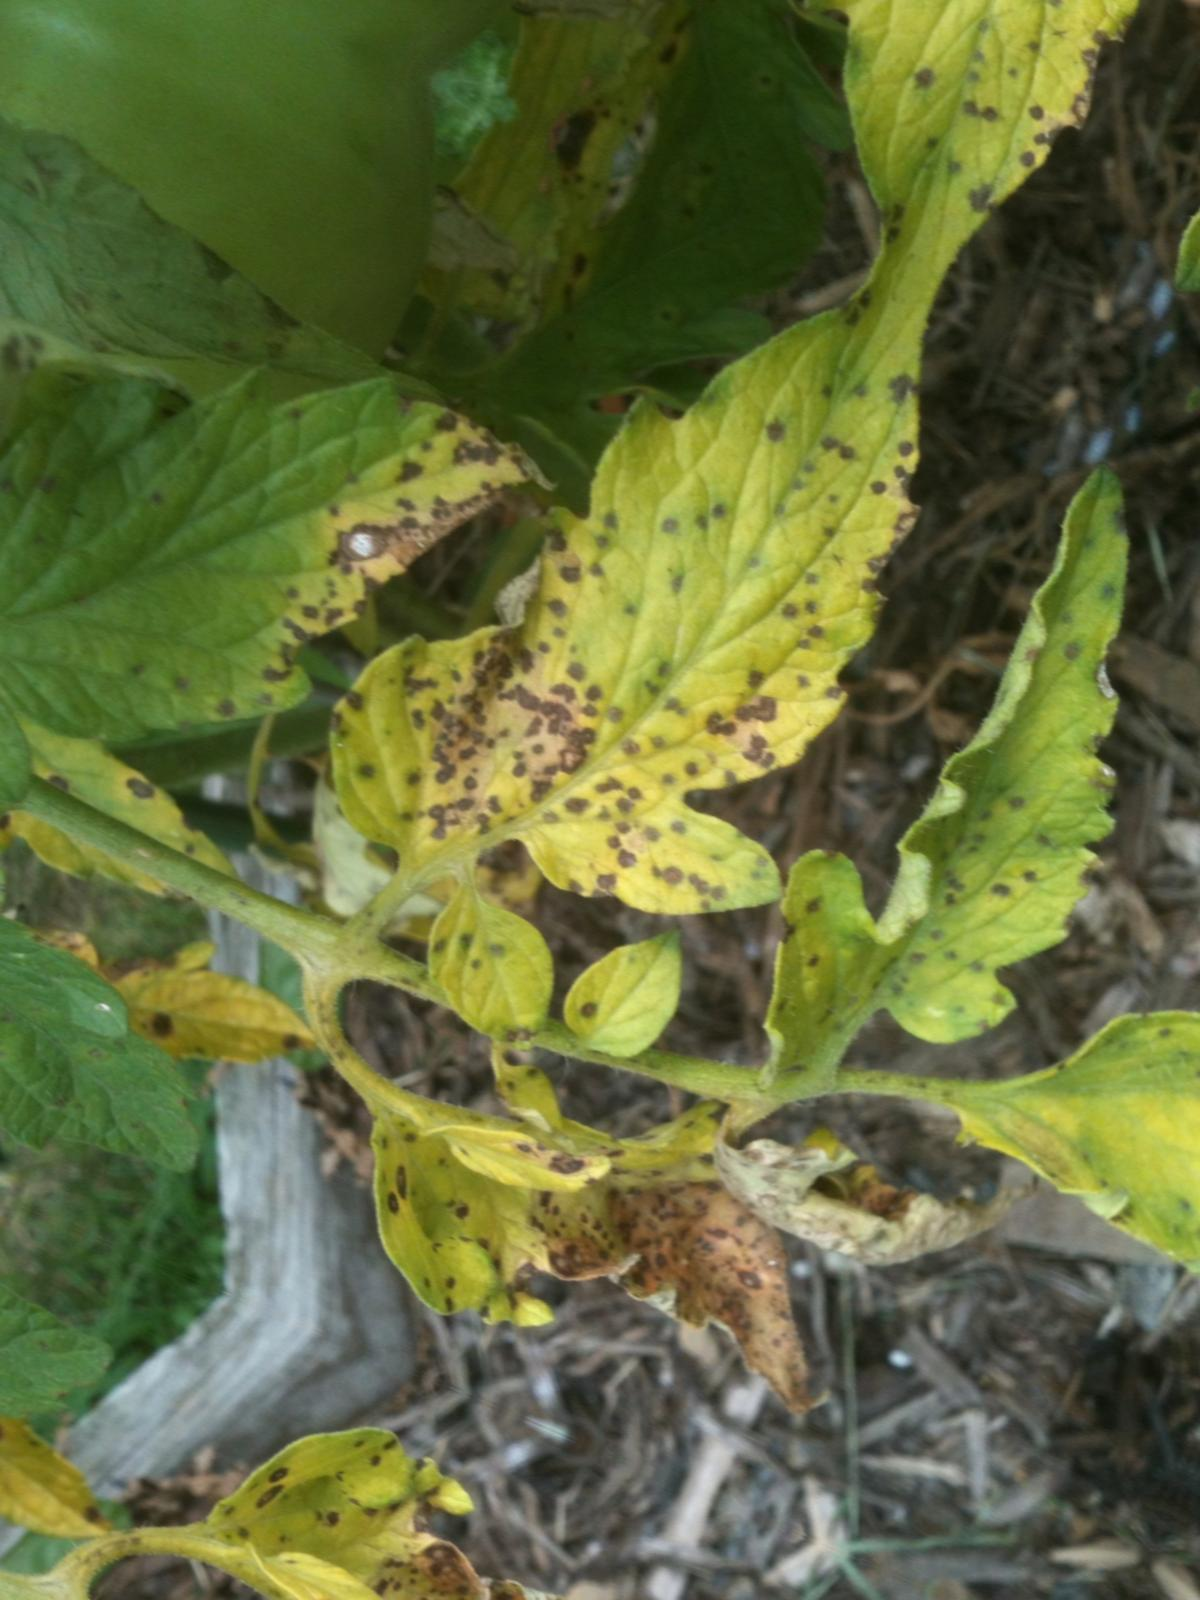Tomato Septoria leaf spot: (290, 142, 1040, 1032), (663, 398, 1200, 1204), (0, 199, 518, 961), (245, 1033, 940, 1546), (916, 898, 1200, 1328)
